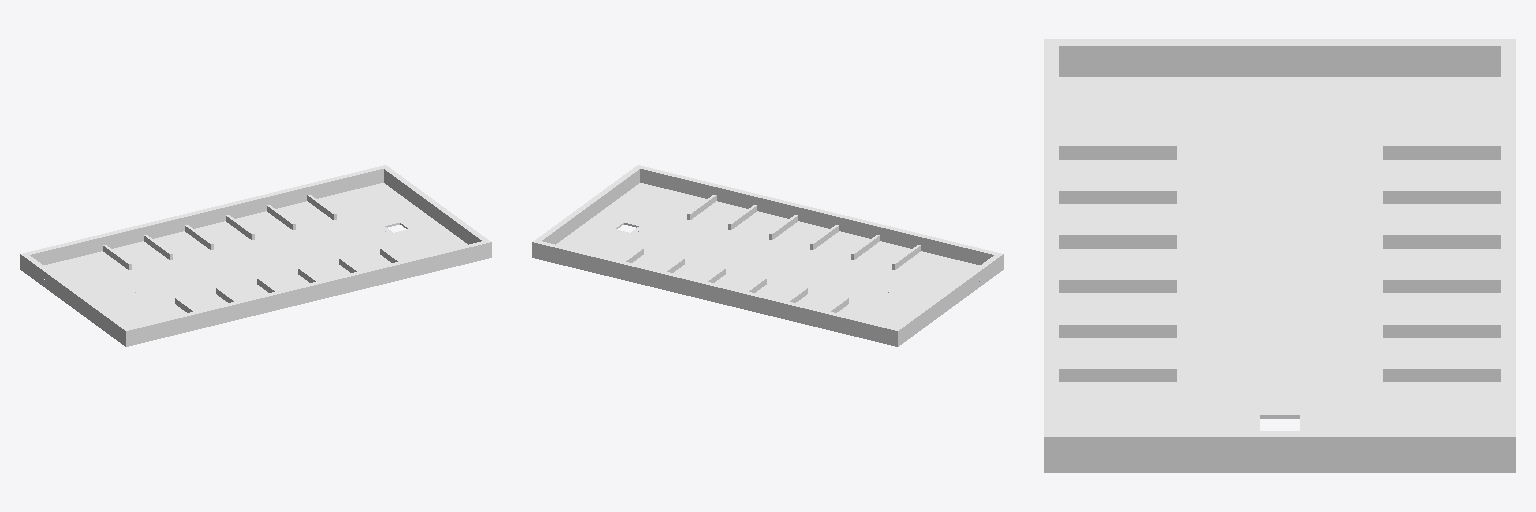
URDF robot description (ArenaLayout.urdf):
<?xml version="1.0" ?>
<robot name="ArenaLayout.urdf">
    <link name="Arena">
        <!-- Import the visual from a textured .obj -->
        <visual>
            <!-- Center on the origin -->
            <origin rpy="0 0 0" xyz="0 0 0"/>
            
            <geometry>
                <mesh filename="ArenaLayout.obj" scale="1 1 1"/>
            </geometry>

            <!-- For some reason textures don't load without this -->
            <material name="white">
                <color rgba="1 1 1 1"/>
            </material>
        </visual>
        
        <!-- Back half of the base -->
        <collision>
            <origin rpy="0 0 0" xyz="-0.1651 0 0.005953"/>
            <geometry>
                <box size="2.1082 1.2192 0.01191"/>
            </geometry>
        </collision>

        <!-- Sides of the base -->
        <collision>
            <origin rpy="0 0 0" xyz="0.9398 0.3302 0.005953"/>
            <geometry>
                <box size="0.1016 0.5588 0.01191"/>
            </geometry>
        </collision>
        <collision>
            <origin rpy="0 0 0" xyz="0.9398 -0.3302 0.005953"/>
            <geometry>
                <box size="0.1016 0.5588 0.01191"/>
            </geometry>
        </collision>

        <!-- Front of the base -->
        <collision>
            <origin rpy="0 0 0" xyz="1.1049 0 0.005953"/>
            <geometry>
                <box size="0.2286 1.2192 0.01191"/>
            </geometry>
        </collision>

        <!-- Front and back walls -->
        <collision>
            <origin rpy="0 0 0" xyz="1.20015 0 0.05636"/>
            <geometry>
                <box size="0.0381 1.2192 0.0889"/>
            </geometry>
        </collision>
        <collision>
            <origin rpy="0 0 0" xyz="-1.20015 0 0.05636"/>
            <geometry>
                <box size="0.0381 1.2192 0.0889"/>
            </geometry>
        </collision>

        <!-- Side walls -->
        <collision>
            <origin rpy="0 0 0" xyz="0 0.59055 0.05636"/>
            <geometry>
                <box size="2.4384 0.0381 0.0889"/>
            </geometry>
        </collision>
        <collision>
            <origin rpy="0 0 0" xyz="0 -0.59055 0.05636"/>
            <geometry>
                <box size="2.4384 0.0381 0.0889"/>
            </geometry>
        </collision>

        <!-- Front left Bins-->
        <collision>
            <origin rpy="0 0 0" xyz="0.682625 0.4191 0.03096"/>
            <geometry>
                <box size="0.01905 0.3048 0.0381"/>
            </geometry>
        </collision>
        <collision>
            <origin rpy="0 0 0" xyz="0.409575 0.4191 0.03096"/>
            <geometry>
                <box size="0.01905 0.3048 0.0381"/>
            </geometry>
        </collision>
        <collision>
            <origin rpy="0 0 0" xyz="0.136525 0.4191 0.03096"/>
            <geometry>
                <box size="0.01905 0.3048 0.0381"/>
            </geometry>
        </collision>

        <!-- Back left bins -->
        <collision>
            <origin rpy="0 0 0" xyz="-0.682625 0.4191 0.03096"/>
            <geometry>
                <box size="0.01905 0.3048 0.0381"/>
            </geometry>
        </collision>
        <collision>
            <origin rpy="0 0 0" xyz="-0.409575 0.4191 0.03096"/>
            <geometry>
                <box size="0.01905 0.3048 0.0381"/>
            </geometry>
        </collision>
        <collision>
            <origin rpy="0 0 0" xyz="-0.136525 0.4191 0.03096"/>
            <geometry>
                <box size="0.01905 0.3048 0.0381"/>
            </geometry>
        </collision>

        <!-- Front right Bins-->
        <collision>
            <origin rpy="0 0 0" xyz="0.682625 -0.4191 0.03096"/>
            <geometry>
                <box size="0.01905 0.3048 0.0381"/>
            </geometry>
        </collision>
        <collision>
            <origin rpy="0 0 0" xyz="0.409575 -0.4191 0.03096"/>
            <geometry>
                <box size="0.01905 0.3048 0.0381"/>
            </geometry>
        </collision>
        <collision>
            <origin rpy="0 0 0" xyz="0.136525 -0.4191 0.03096"/>
            <geometry>
                <box size="0.01905 0.3048 0.0381"/>
            </geometry>
        </collision>

        <!-- Back right bins -->
        <collision>
            <origin rpy="0 0 0" xyz="-0.682625 -0.4191 0.03096"/>
            <geometry>
                <box size="0.01905 0.3048 0.0381"/>
            </geometry>
        </collision>
        <collision>
            <origin rpy="0 0 0" xyz="-0.409575 -0.4191 0.03096"/>
            <geometry>
                <box size="0.01905 0.3048 0.0381"/>
            </geometry>
        </collision>
        <collision>
            <origin rpy="0 0 0" xyz="-0.136525 -0.4191 0.03096"/>
            <geometry>
                <box size="0.01905 0.3048 0.0381"/>
            </geometry>
        </collision>
    </link>
</robot>

--- What the picture shows (computed from the rendered views, not written in the file) ---
3 views of the same robot in one strip: view 1: azimuth 30°, elevation 25°; view 2: azimuth 150°, elevation 25°; view 3: azimuth 270°, elevation 25° (orthographic).
Robot: ArenaLayout.urdf — 1 links, 0 joints (none); root link Arena; default pose: every joint at zero.
Visible links, largest first — view 1: Arena; view 2: Arena; view 3: Arena.
Boxes of the visible links, x1,y1,x2,y2 form: Arena: [20, 165, 491, 346]; Arena: [532, 165, 1003, 346]; Arena: [1044, 39, 1515, 472].
Size in the robot's own frame: 2438 by 1219 by 101 metres.
1 mesh visuals loaded from 1 distinct referenced files (1 OBJ).